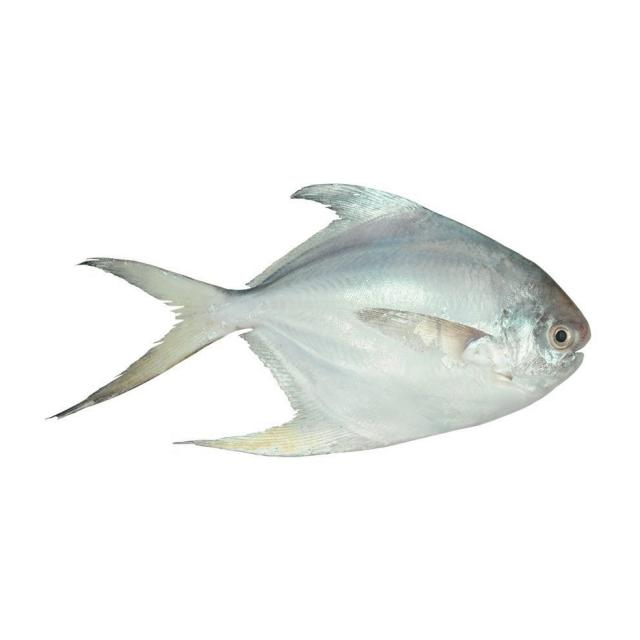pomfred: (62, 182, 592, 457)
